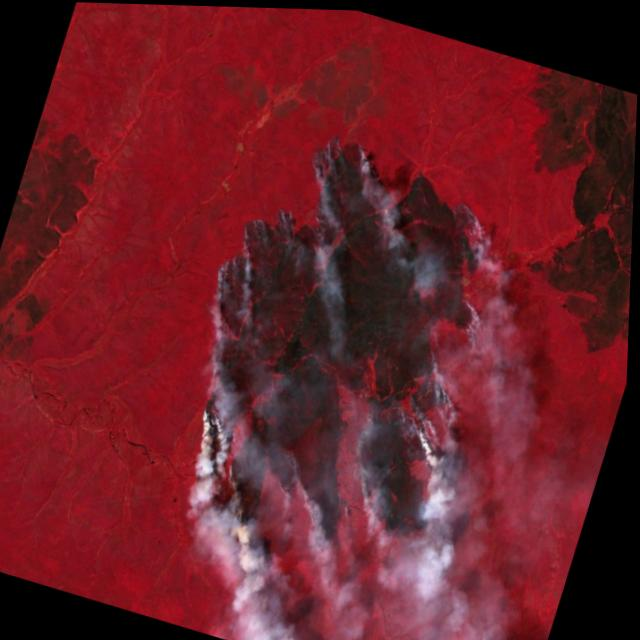fire: (134, 104, 558, 615)
